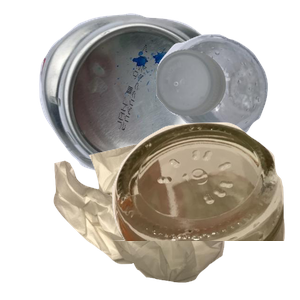glass: (89, 120, 300, 300)
metal: (37, 11, 261, 180)
plastic: (153, 31, 300, 161)
trash: (51, 142, 278, 300)
